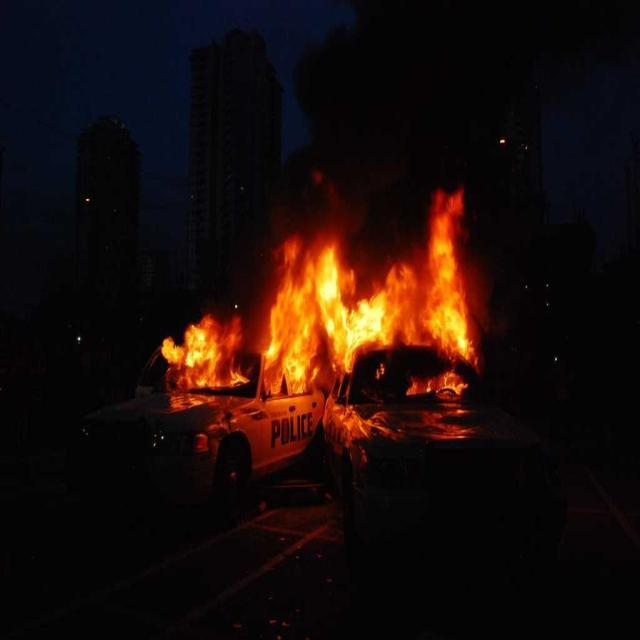Fire: (272, 250, 343, 372), (362, 288, 468, 341), (179, 322, 238, 390), (434, 205, 456, 292)
